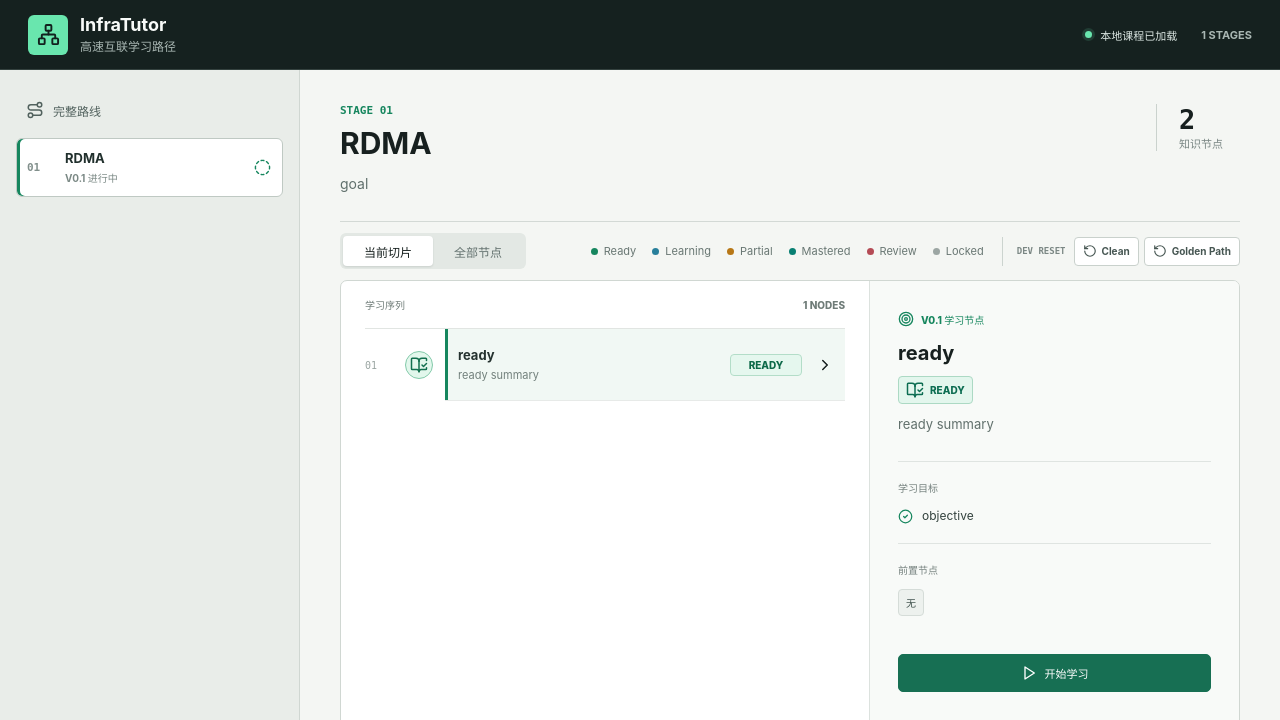
it: Roadmap session actions › keeps Coming Later nodes non-enterable
The width and height of the screenshot is (1280, 720).
Click the button "全部节点" at (478, 251), box [433, 236, 523, 266]
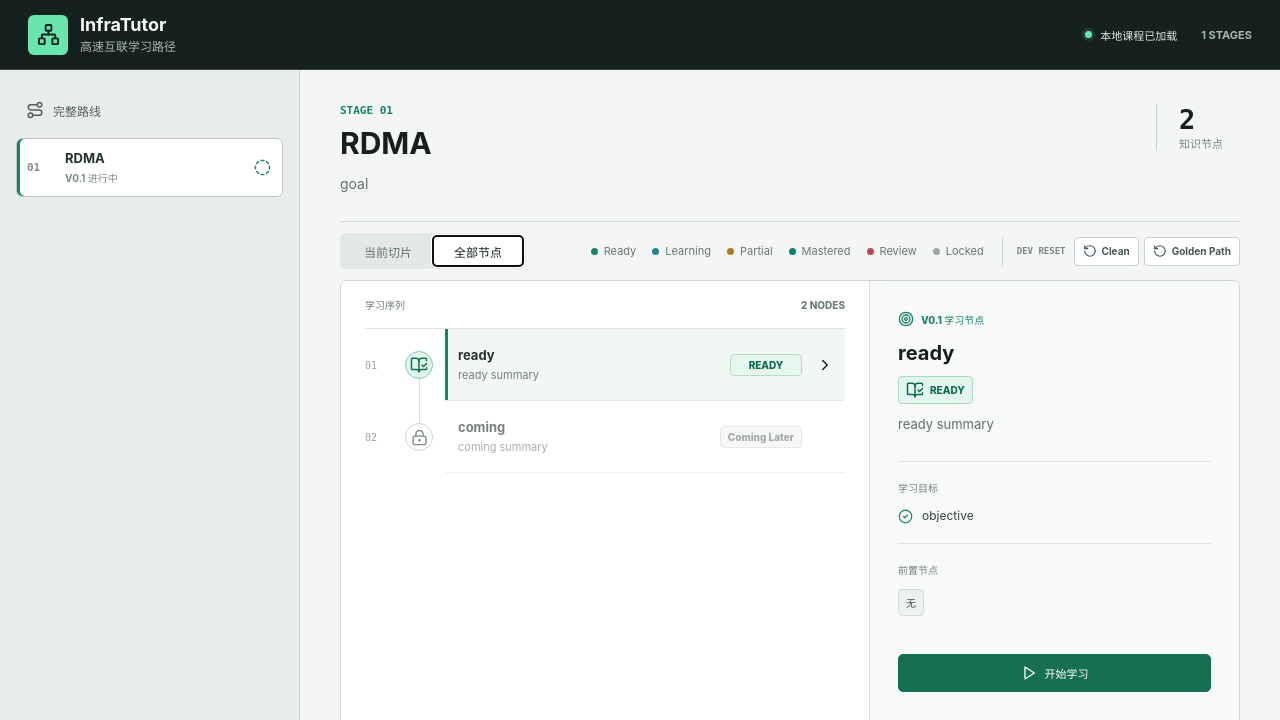
Result: the button "coming coming summary Coming Later" is disabled at [445, 401, 845, 473]
